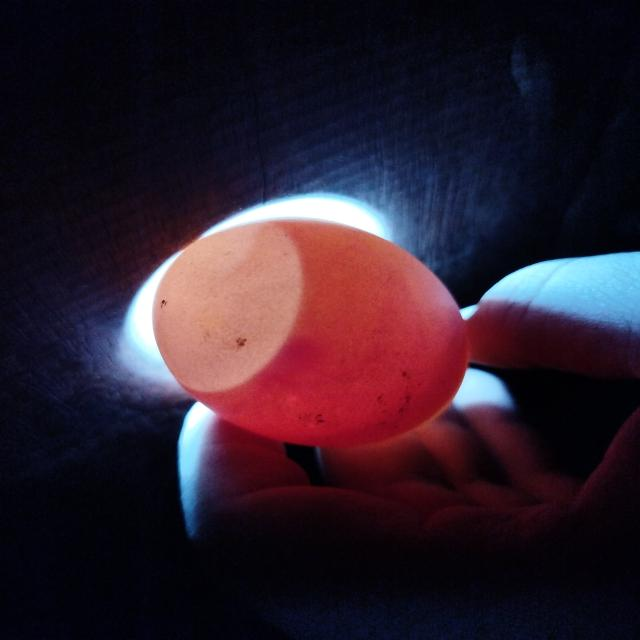Camara de Ar: (152, 221, 303, 393)
Gema Quebrada: (320, 329, 469, 446)
